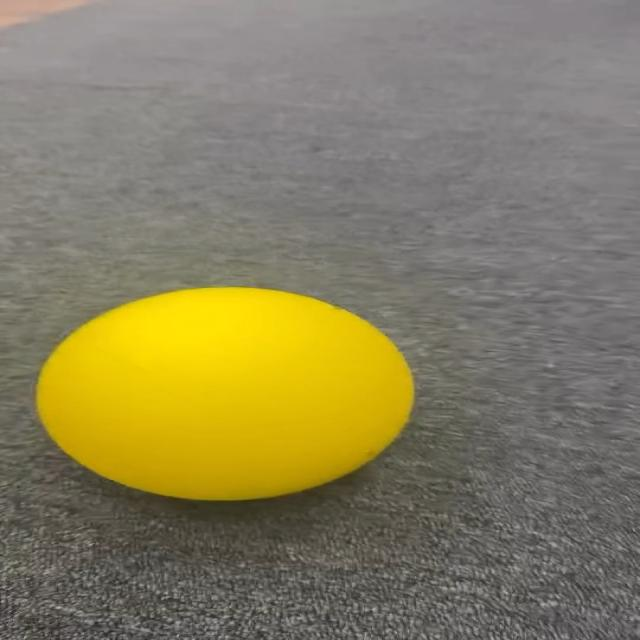Fuels: (35, 282, 411, 494)
